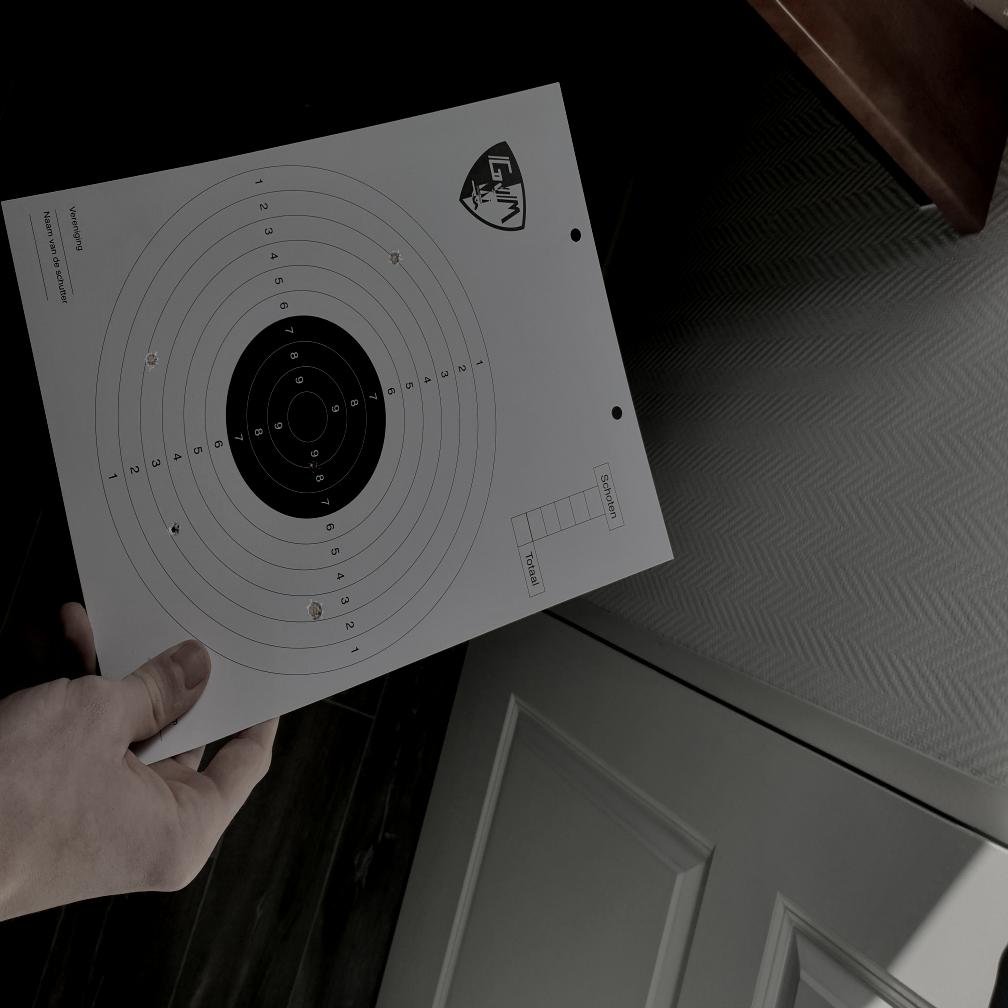3: (306, 599, 324, 621), (145, 350, 159, 372), (388, 249, 402, 266), (168, 521, 182, 537)
9: (306, 459, 321, 474)
Target: (92, 162, 500, 681)
black_contour: (227, 316, 387, 519)
